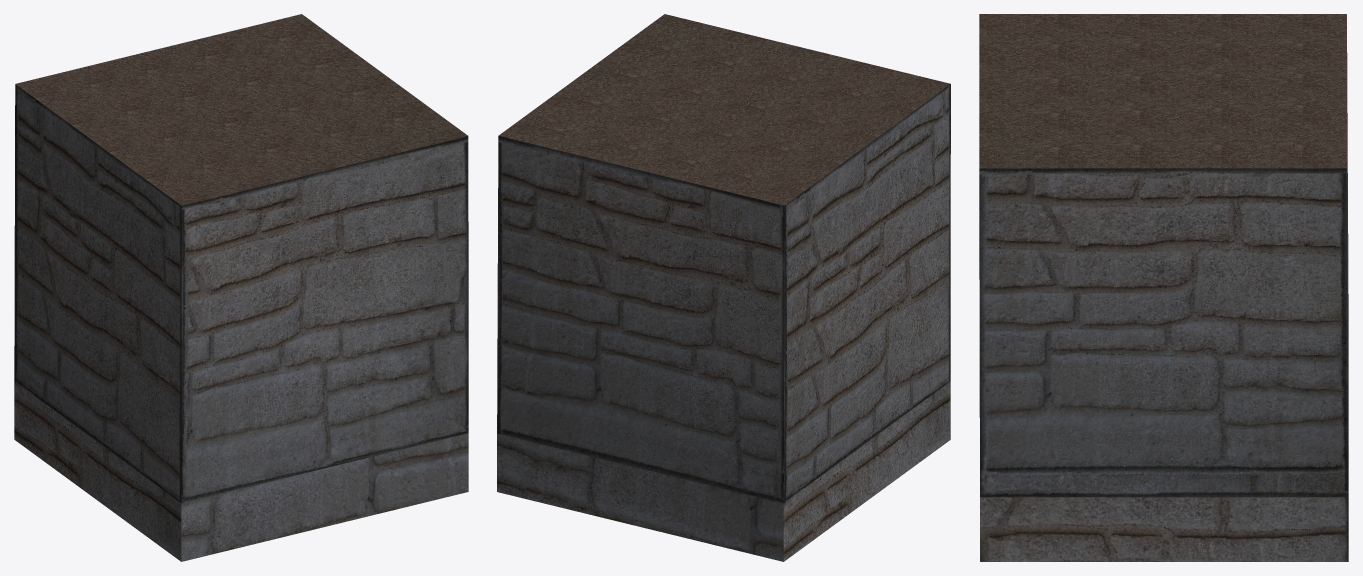
File: SmallBrickWall.glb
The picture shows the model from 3 angles, left to right: view 1: azimuth 30°, elevation 25°; view 2: azimuth 150°, elevation 25°; view 3: azimuth 270°, elevation 25°; orthographic projection. The views are drawn at different scales.
Visible parts, largest first — view 1: Cube; view 2: Cube; view 3: Cube.
Boxes of the visible parts, box(x1,y1,x2,y2) form: Cube: box(14, 14, 468, 561); Cube: box(497, 14, 950, 561); Cube: box(979, 14, 1348, 561).
Size of the model in its own units: 2.01 by 2.39 by 2.03.
1 material, 1 textured.
